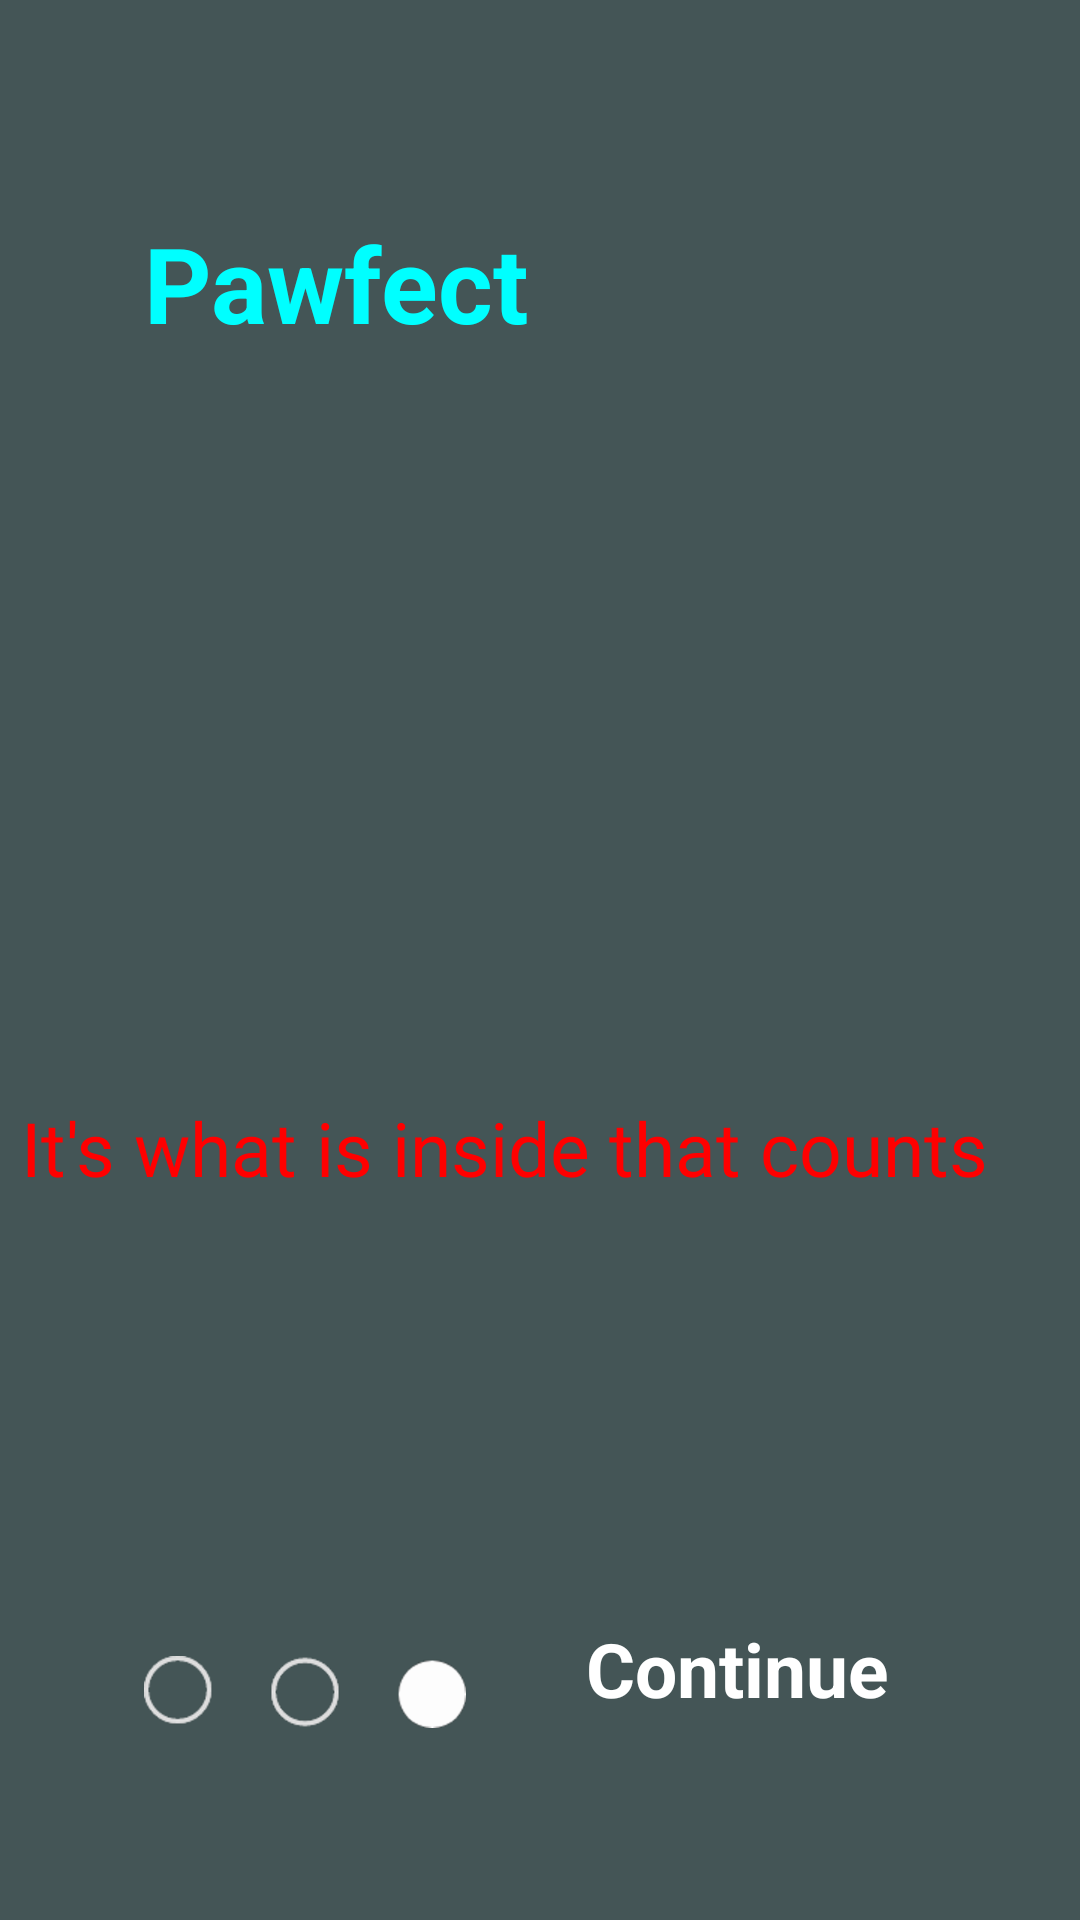

Locate icon controls on the screen. Image size 1080px x 1920px, boxes as bbox=[x1, y1, x2, y2].
tab: bbox=[144, 1656, 466, 1728]
